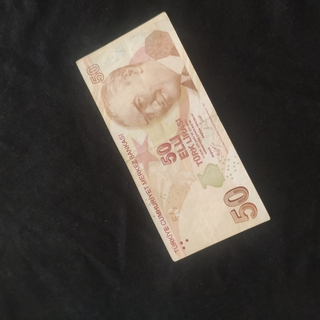50TLFront: (74, 9, 271, 262)
